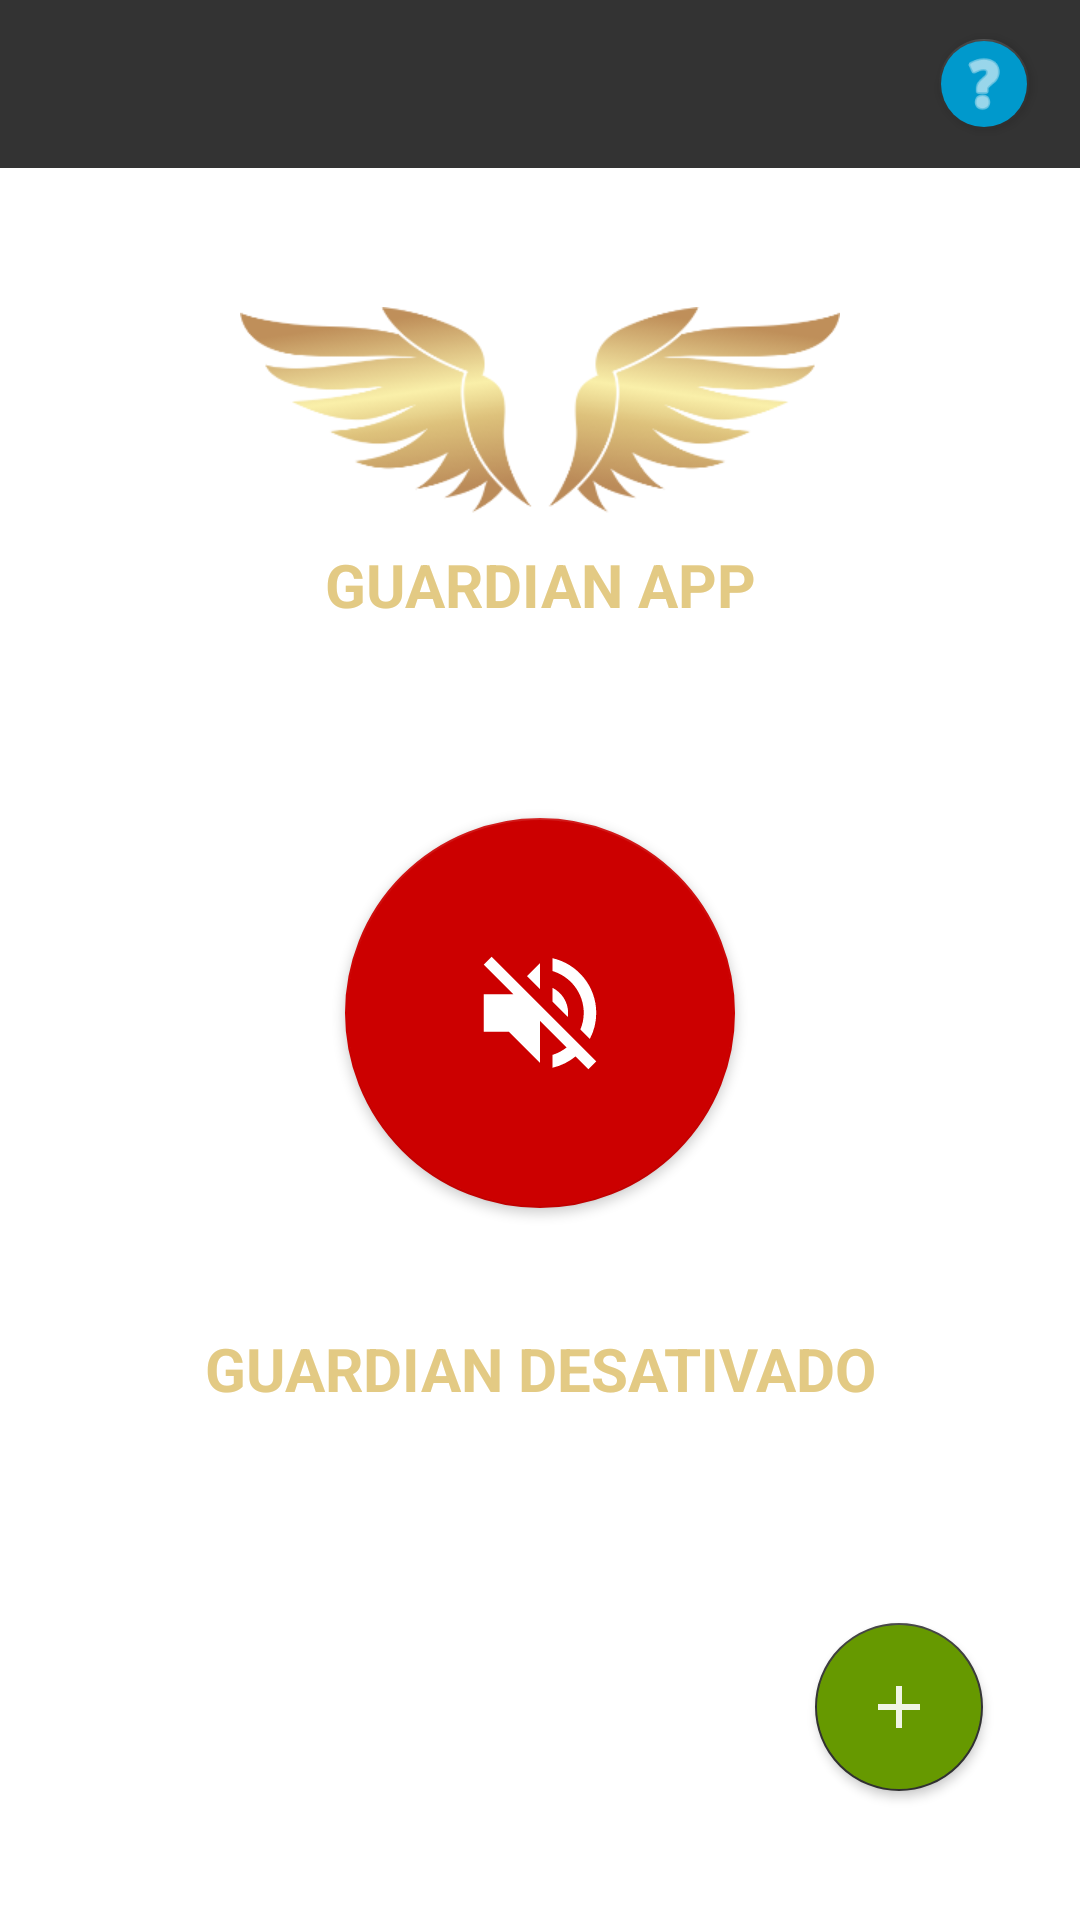

Icon click points for this 1080×1920 phone screenshot, format point (x, y):
help: point (984, 83)
